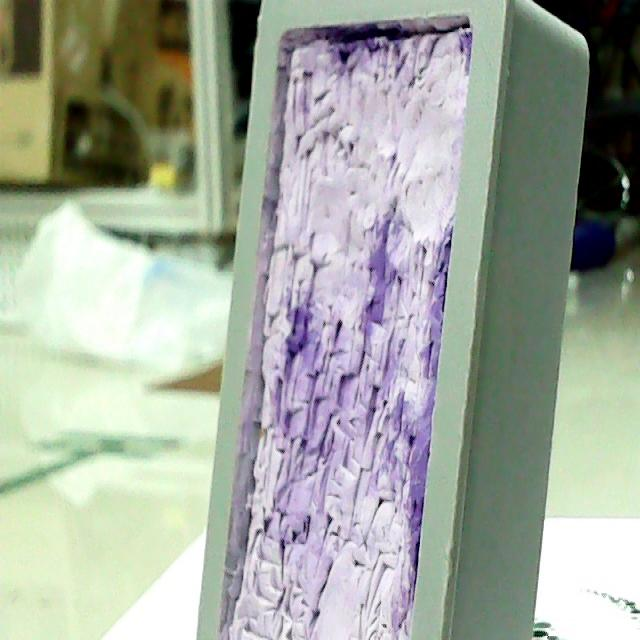block: (187, 0, 593, 640)
